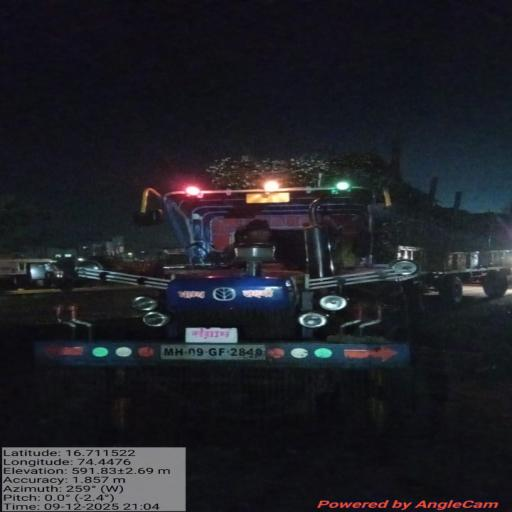number_plate: (154, 336, 290, 365)
